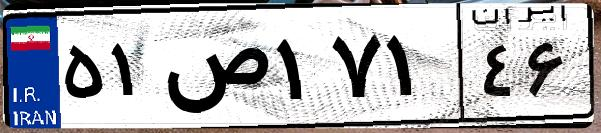1: (270, 28, 330, 110), (385, 28, 445, 110), (110, 28, 158, 98)
4: (475, 38, 525, 113)
5: (57, 26, 110, 100)
6: (525, 38, 570, 115)
7: (330, 28, 385, 110)
ص: (158, 20, 270, 120)
